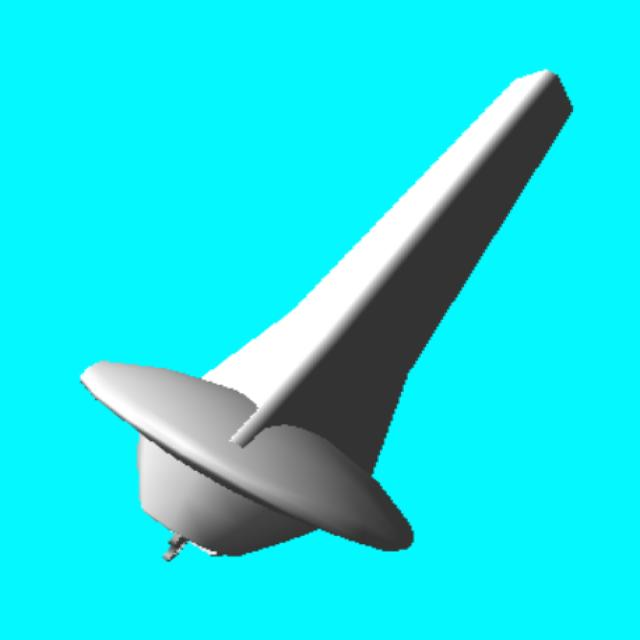WhiteBuoy: (81, 72, 572, 558)
